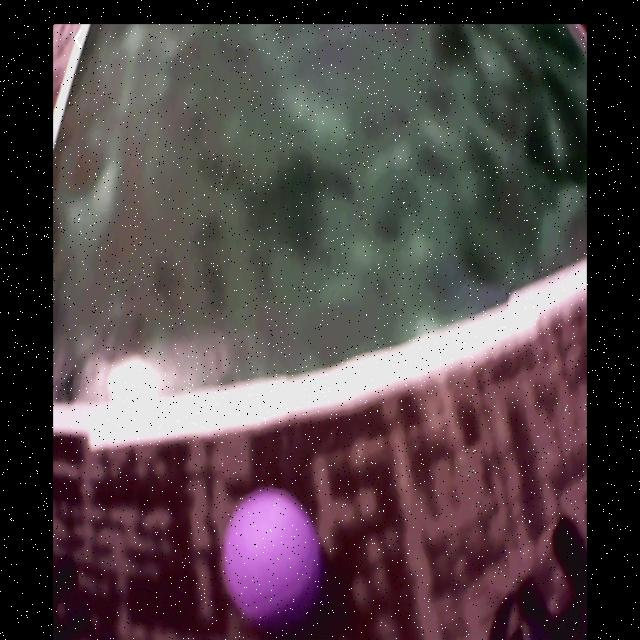ball: (221, 484, 326, 631)
